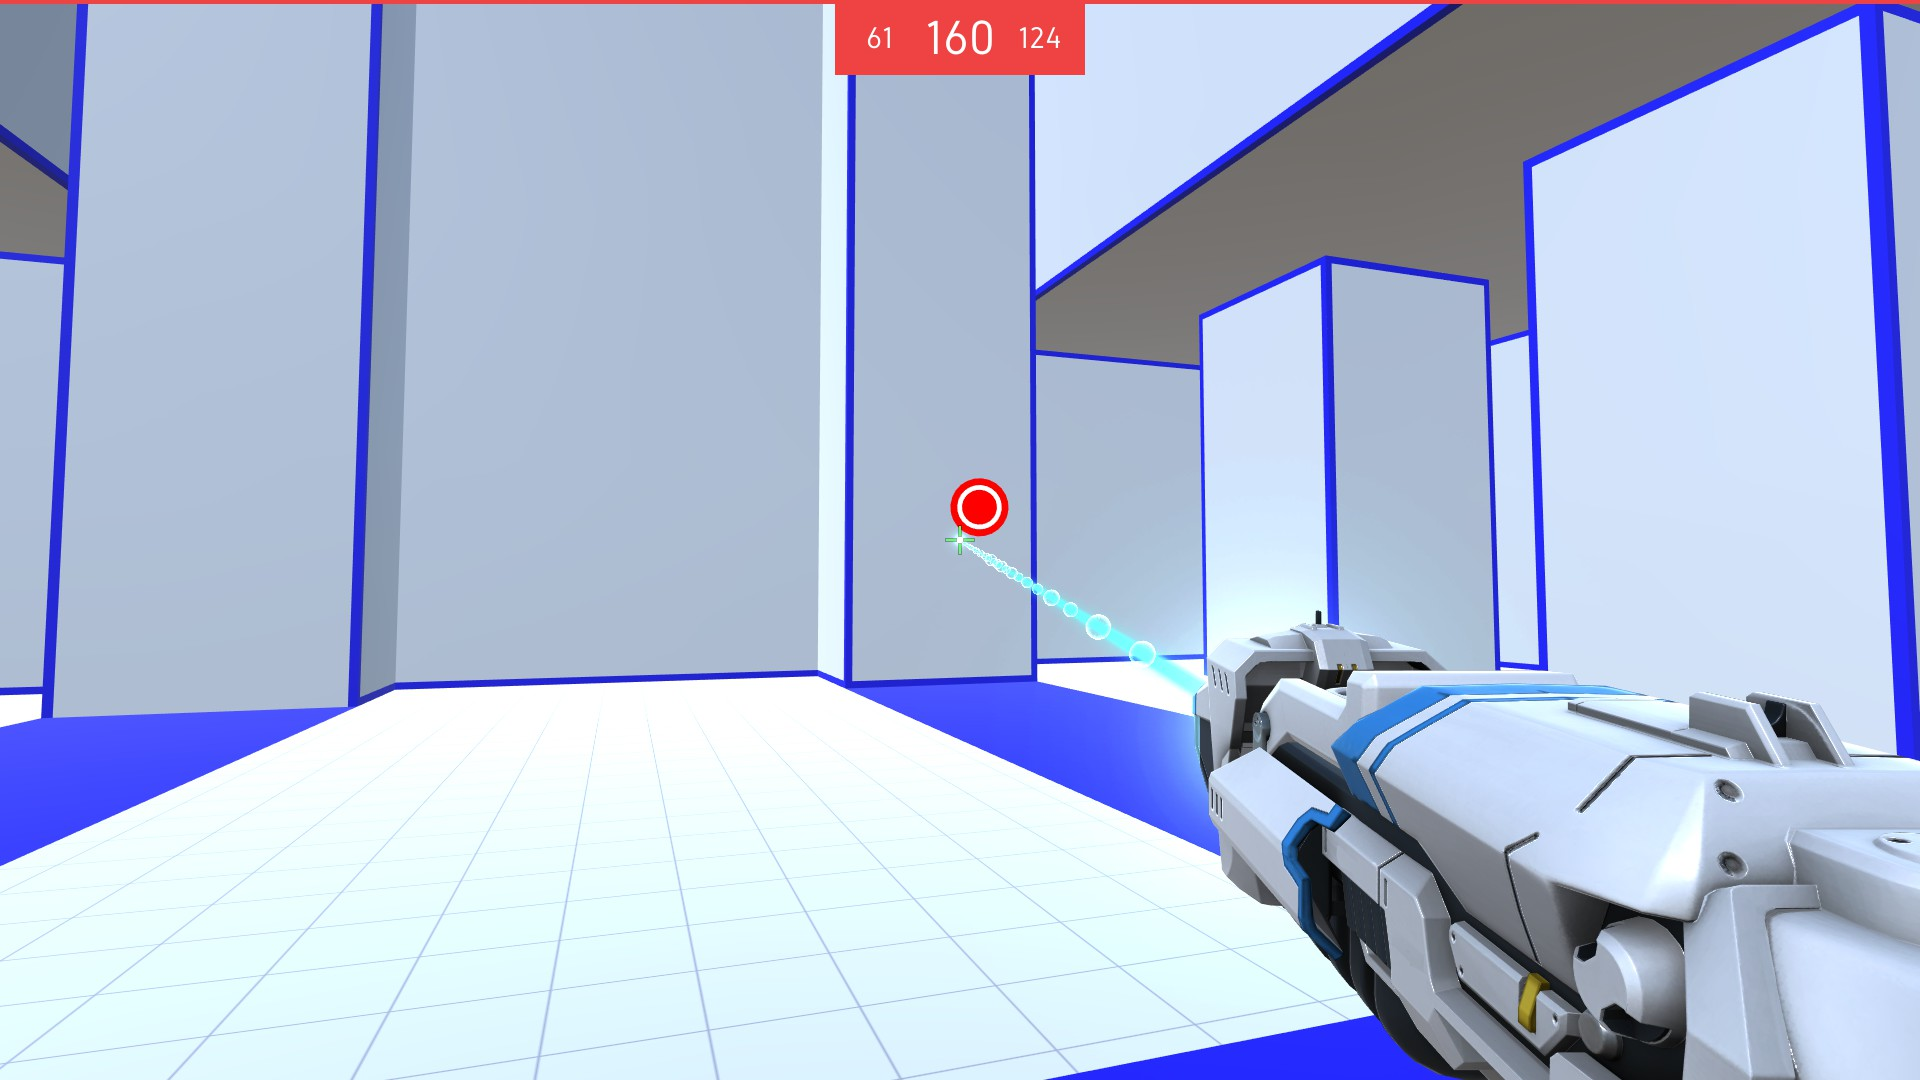target: (945, 476, 1011, 541)
